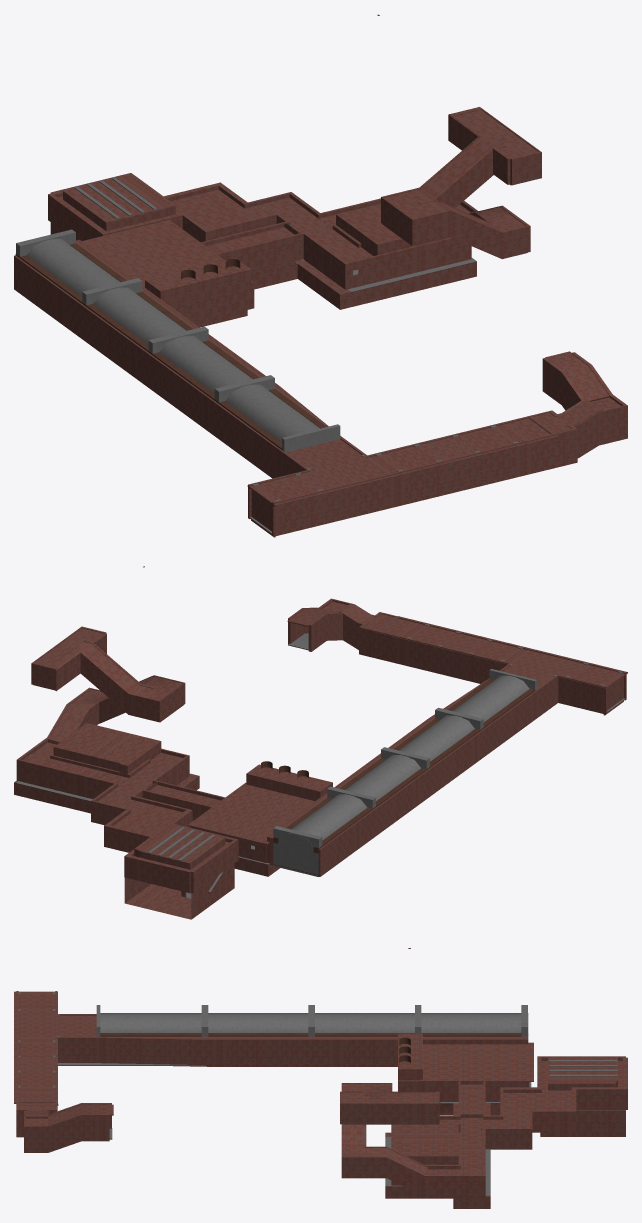
File: UndergroundFloorCorridorsAndRooms.fbx
3 renders of one model, top to bottom at view 1: azimuth 30°, elevation 25°; view 2: azimuth 150°, elevation 25°; view 3: azimuth 270°, elevation 25°, orthographic. The views are drawn at different scales.
Visible parts, largest first — view 1: UndergroundFloorCorridorsAndRooms; view 2: UndergroundFloorCorridorsAndRooms; view 3: UndergroundFloorCorridorsAndRooms.
Boxes of the visible parts, box(x1,y1,x2,y2) form: UndergroundFloorCorridorsAndRooms: box(14, 14, 627, 537); UndergroundFloorCorridorsAndRooms: box(14, 566, 627, 919); UndergroundFloorCorridorsAndRooms: box(14, 948, 627, 1208).
Bounding box in the file's own units: 12271 × 7211 × 17286.
